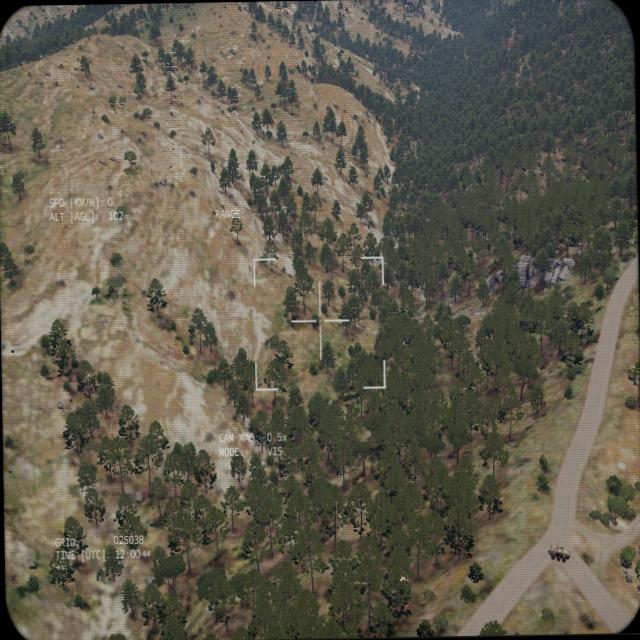apc: (547, 542, 570, 562)
